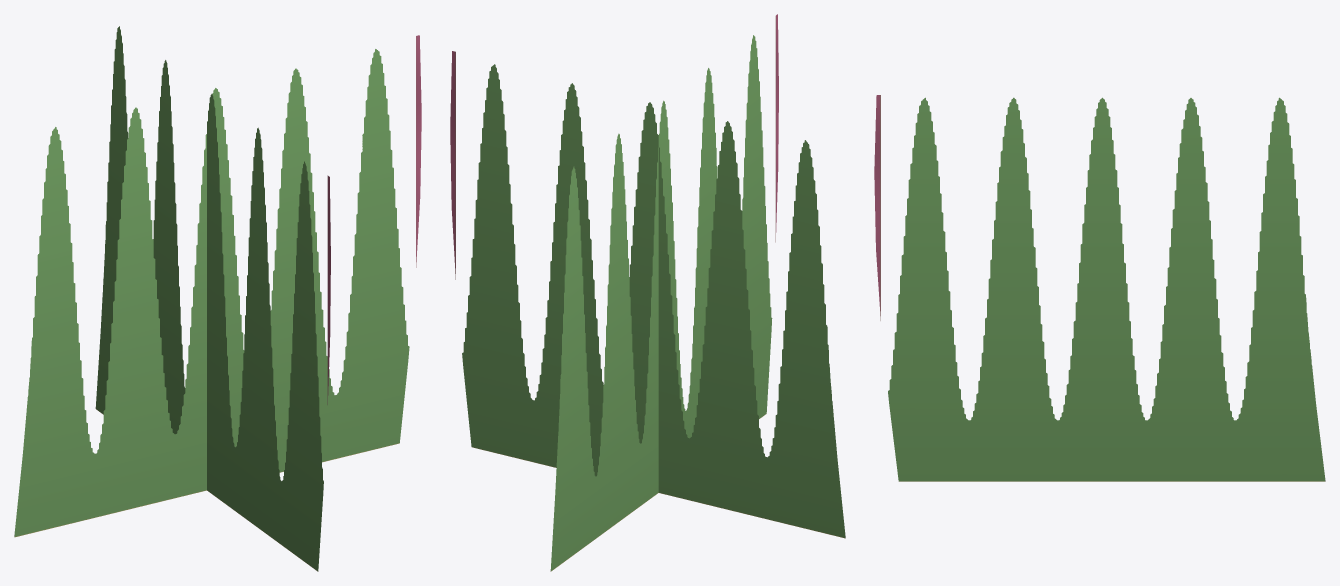
Rendered from grass_tuft_b.glb.
3 views of the same model, side by side, from view 1: azimuth 30°, elevation 25°; view 2: azimuth 150°, elevation 25°; view 3: azimuth 270°, elevation 25° (orthographic). The views are drawn at different scales.
Visible parts, largest first — view 1: lod0; view 2: lod0; view 3: lod0.
Boxes of the visible parts, left/top/right/bottom form: lod0: left=14, top=26, right=421, bottom=571; lod0: left=450, top=14, right=845, bottom=571; lod0: left=874, top=95, right=1325, bottom=481.
Size of the model in its own units: 0.74 by 0.7 by 0.74.
Materials: 1 (1 with a texture image).
